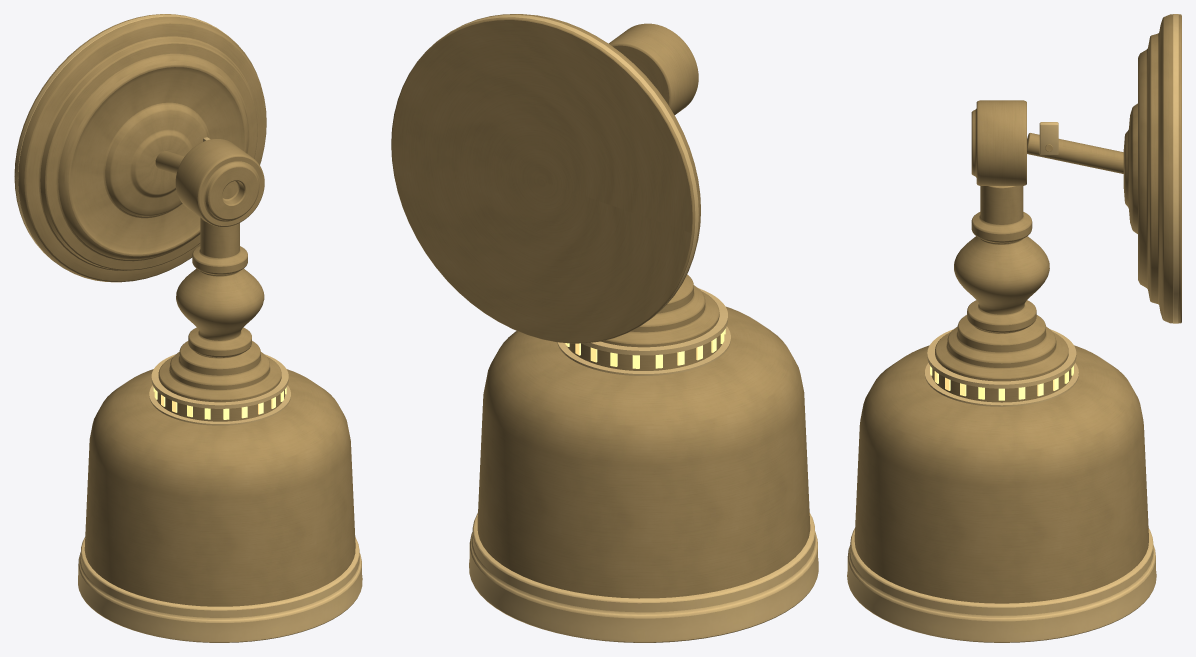
Rendered from vintage-copper-bell-wall-sconce_5b7b228d-b8f3-4bdc-b252-556957c21309.glb.
3 views of the same model, side by side, from view 1: azimuth 30°, elevation 25°; view 2: azimuth 150°, elevation 25°; view 3: azimuth 270°, elevation 25° (orthographic). The views are drawn at different scales.
Visible parts, largest first — view 1: Shade_Body, WallPlate, TurnedStem, Shade_Band, KnuckleHub, Gallery_TopRing, WallPlate_RimHighlight, Gallery_Band, Gallery_BottomRing; view 2: WallPlate, Shade_Body, Shade_Band, KnuckleHub, TurnedStem, WallPlate_RimHighlight, Gallery_Band, Gallery_TopRing, Gallery_BottomRing; view 3: Shade_Body, TurnedStem, Shade_Band, WallPlate, KnuckleHub, WallPlate_RimHighlight, ArmRod, Gallery_TopRing, Gallery_Band, Gallery_BottomRing, WingScrew_Tab.
Part boxes in pixels (left/top/right/bottom): Shade_Body: left=84, top=369, right=355, bottom=606; WallPlate: left=14, top=14, right=266, bottom=282; TurnedStem: left=158, top=217, right=281, bottom=402; Shade_Band: left=78, top=537, right=362, bottom=642; KnuckleHub: left=175, top=139, right=264, bottom=226; Gallery_TopRing: left=151, top=354, right=288, bottom=408; WallPlate_RimHighlight: left=15, top=14, right=235, bottom=269; Gallery_Band: left=156, top=390, right=285, bottom=421; Gallery_BottomRing: left=149, top=385, right=290, bottom=425; WallPlate: left=391, top=14, right=700, bottom=343; Shade_Body: left=477, top=306, right=810, bottom=598; Shade_Band: left=469, top=513, right=818, bottom=642; KnuckleHub: left=609, top=23, right=698, bottom=114; TurnedStem: left=601, top=274, right=719, bottom=347; WallPlate_RimHighlight: left=428, top=14, right=698, bottom=329; Gallery_Band: left=567, top=335, right=721, bottom=370; Gallery_TopRing: left=581, top=288, right=727, bottom=355; Gallery_BottomRing: left=557, top=326, right=730, bottom=375; Shade_Body: left=854, top=345, right=1148, bottom=603; TurnedStem: left=935, top=186, right=1068, bottom=381; Shade_Band: left=847, top=528, right=1156, bottom=642; WallPlate: left=1123, top=14, right=1181, bottom=323; KnuckleHub: left=971, top=100, right=1026, bottom=185; WallPlate_RimHighlight: left=1173, top=14, right=1178, bottom=323; ArmRod: left=1027, top=133, right=1123, bottom=173; Gallery_TopRing: left=927, top=329, right=1076, bottom=388; Gallery_Band: left=931, top=369, right=1071, bottom=402; Gallery_BottomRing: left=924, top=363, right=1078, bottom=406; WingScrew_Tab: left=1039, top=122, right=1058, bottom=155.
Bounding box in the file's own units: 0.1247 × 0.244 × 0.1346.
4 materials, 3 textured.
